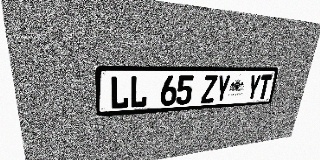5: (176, 75, 194, 105)
6: (160, 75, 178, 106)
L: (110, 76, 129, 110), (129, 76, 148, 108)
T: (257, 75, 272, 100)
Y: (214, 75, 231, 102), (246, 75, 262, 100)
Z: (201, 75, 218, 103)
